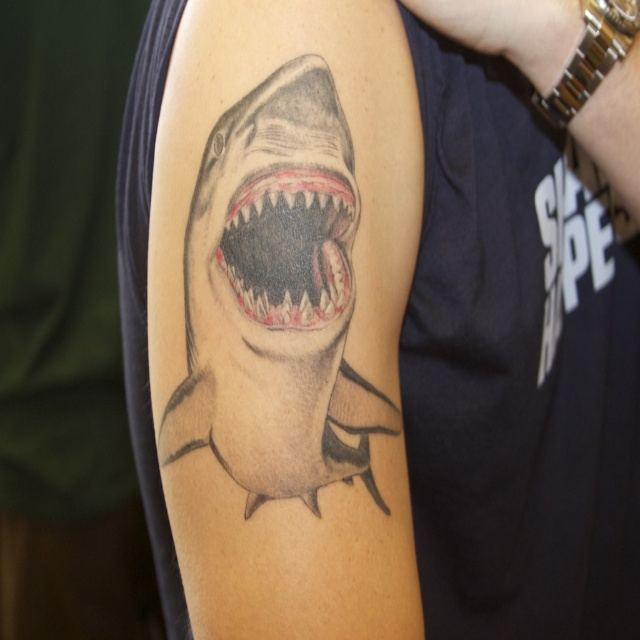Shark: (152, 54, 402, 521)
